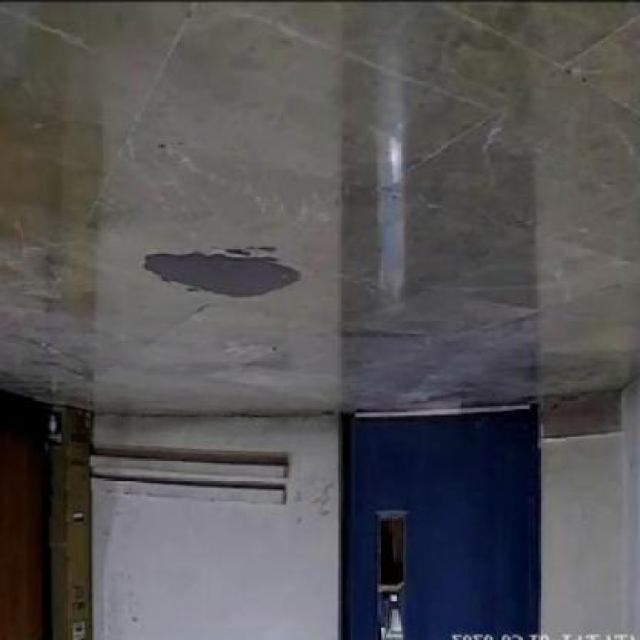spillage: (123, 249, 306, 307)
